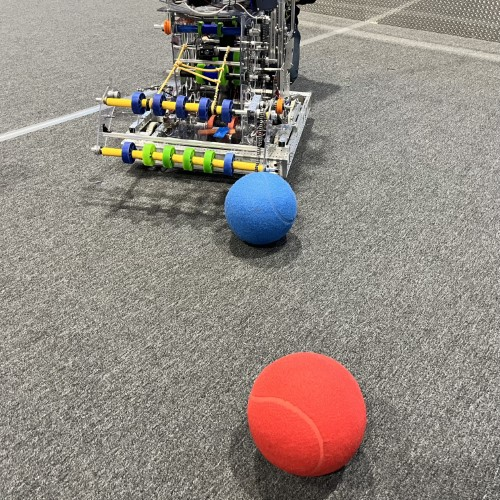blue: (222, 169, 299, 247)
red: (246, 349, 368, 479)
